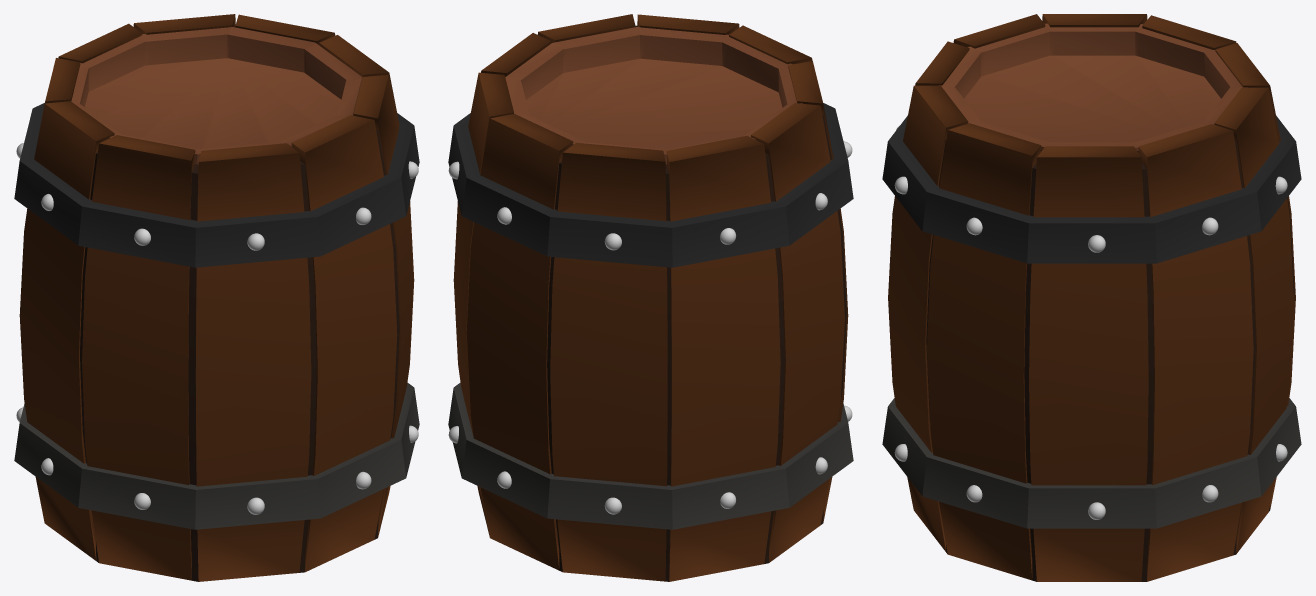
The model's file is Bau.fbx.
The picture shows the model from 3 angles, left to right: view 1: azimuth 30°, elevation 25°; view 2: azimuth 150°, elevation 25°; view 3: azimuth 270°, elevation 25°; orthographic projection.
Visible parts, largest first — view 1: Cylinder, Cylinder.003, Cylinder.001, Cylinder.002, Cylinder.004; view 2: Cylinder, Cylinder.003, Cylinder.001, Cylinder.002, Cylinder.004; view 3: Cylinder, Cylinder.003, Cylinder.001, Cylinder.002, Cylinder.004.
Part boxes in pixels (<box>): Cylinder: <box>19,14,414,581</box>; Cylinder.003: <box>71,27,362,164</box>; Cylinder.001: <box>14,103,419,267</box>; Cylinder.002: <box>14,382,419,529</box>; Cylinder.004: <box>80,129,399,581</box>; Cylinder: <box>453,14,848,581</box>; Cylinder.003: <box>505,26,802,164</box>; Cylinder.001: <box>448,103,853,267</box>; Cylinder.002: <box>448,382,853,529</box>; Cylinder.004: <box>547,25,846,581</box>; Cylinder: <box>888,14,1295,581</box>; Cylinder.003: <box>939,23,1242,150</box>; Cylinder.001: <box>882,115,1301,263</box>; Cylinder.002: <box>882,398,1301,528</box>; Cylinder.004: <box>926,98,1294,581</box>.
Bounding box in the file's own units: 243 × 275 × 246.
